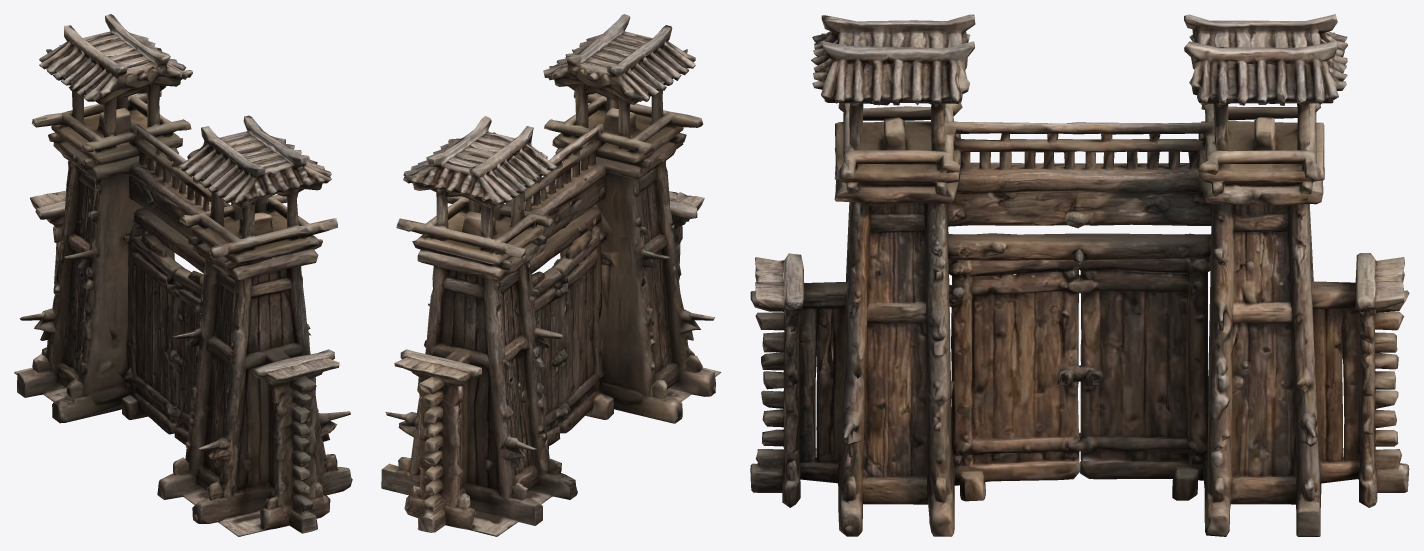
File: gatehouse-mid.glb
The picture shows the model from 3 angles, left to right: view 1: azimuth 30°, elevation 25°; view 2: azimuth 150°, elevation 25°; view 3: azimuth 270°, elevation 25°; orthographic projection. The views are drawn at different scales.
Bounding box in the file's own units: 0.3614 × 0.7715 × 0.9996.
1 material, 1 textured.
